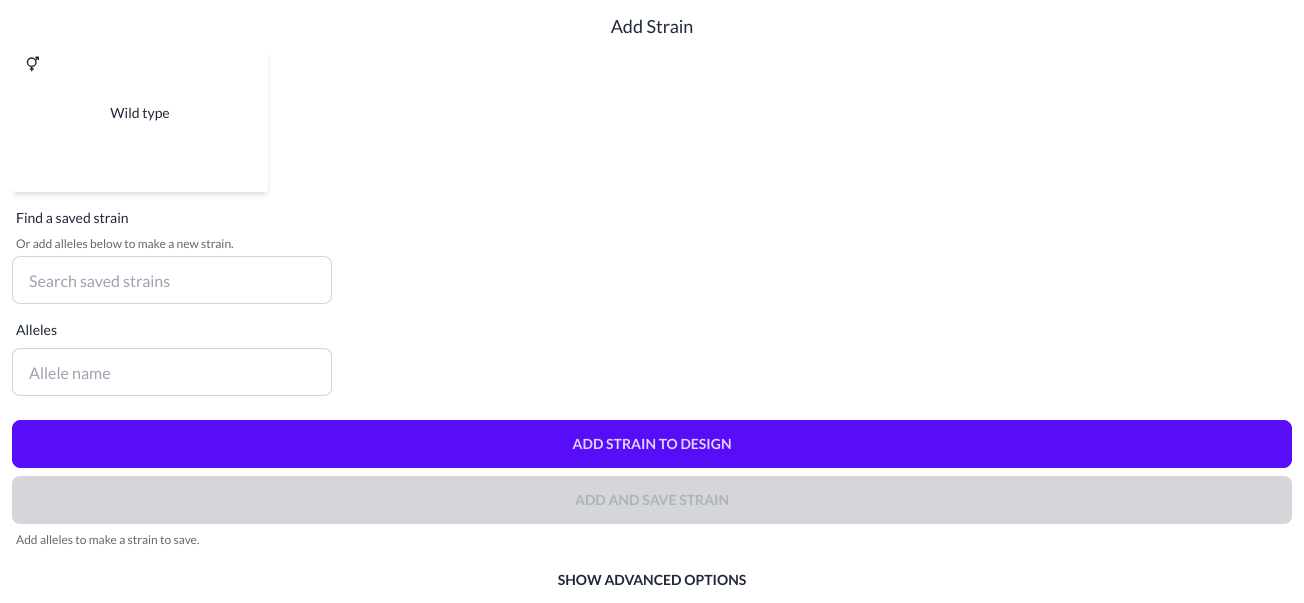
Strain form › No input gives no options
Click the field labelled "Alleles" at x=172, y=372, box left=12, top=348, right=332, bottom=396
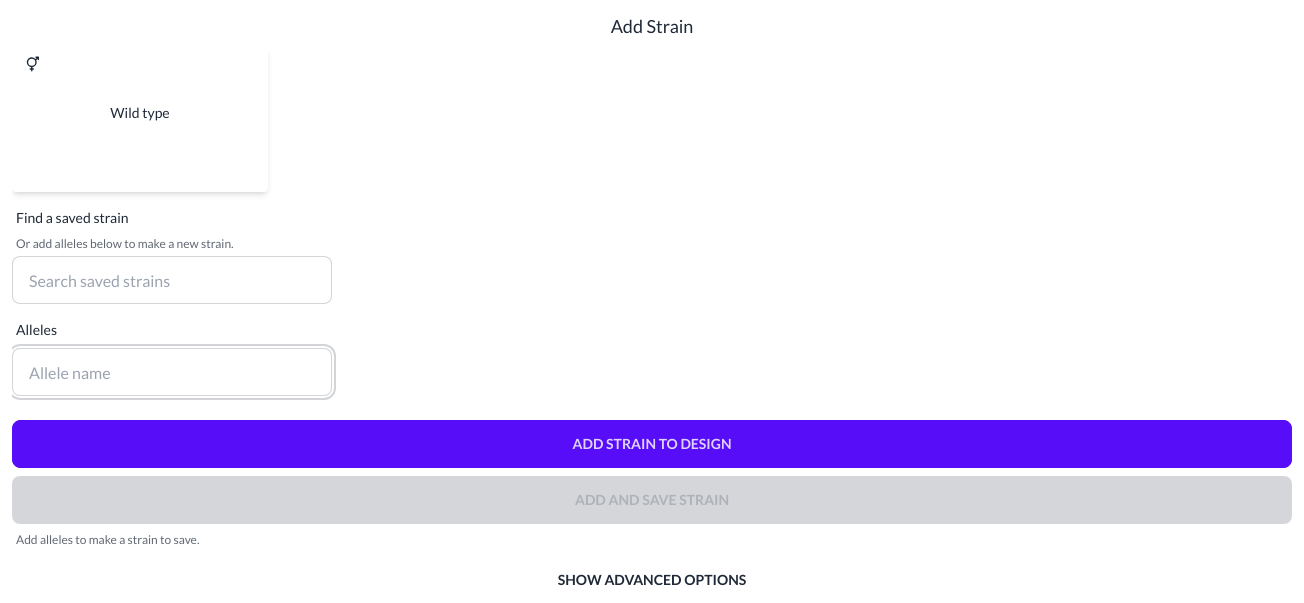
Type keys "ed"
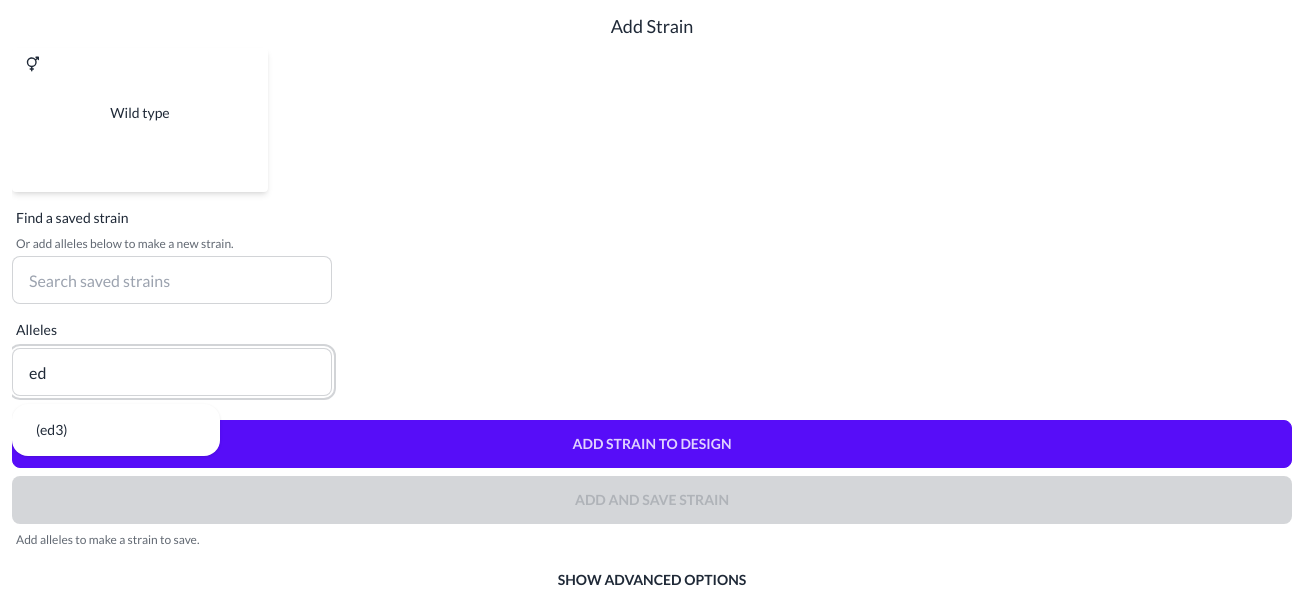
expect the link "(ed3)" is shown: met, box left=36, top=421, right=68, bottom=438
Press Backspace Backspace
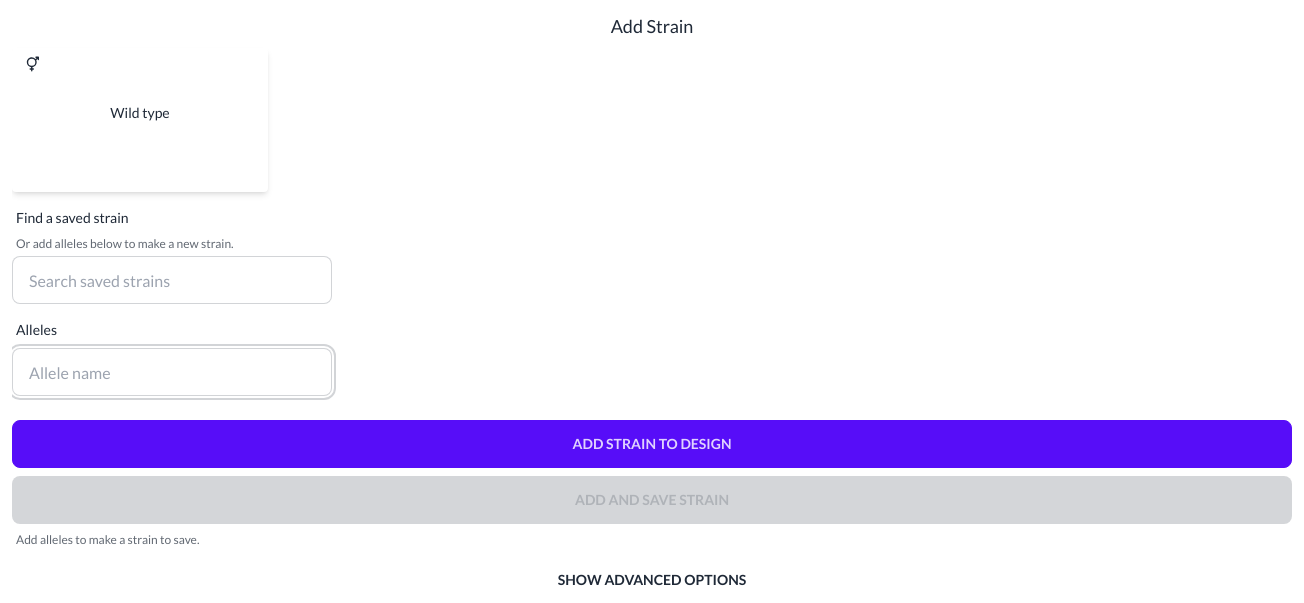
expect the link "ed3" is gone: met
